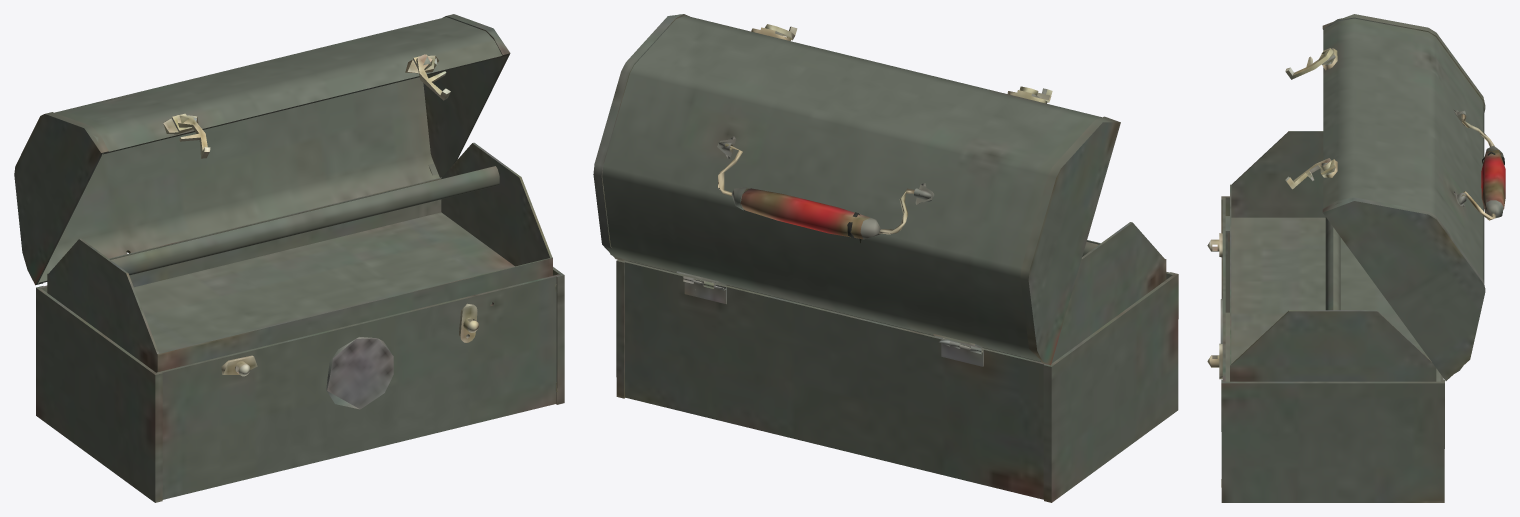
File: handitem_werkzeugkoffer.glb
The picture shows the model from 3 angles, left to right: view 1: azimuth 30°, elevation 25°; view 2: azimuth 150°, elevation 25°; view 3: azimuth 270°, elevation 25°; orthographic projection. The views are drawn at different scales.
Bounding box in the file's own units: 0.4 × 0.3044 × 0.2698.
Materials: 1 (1 with a texture image).
